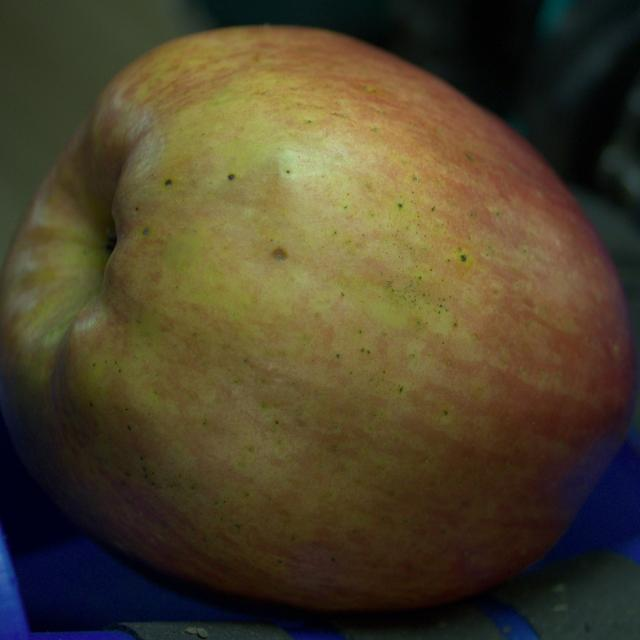apple: (0, 26, 636, 611)
pest: (272, 248, 287, 261), (165, 179, 171, 185), (143, 229, 149, 234), (228, 174, 234, 179)
